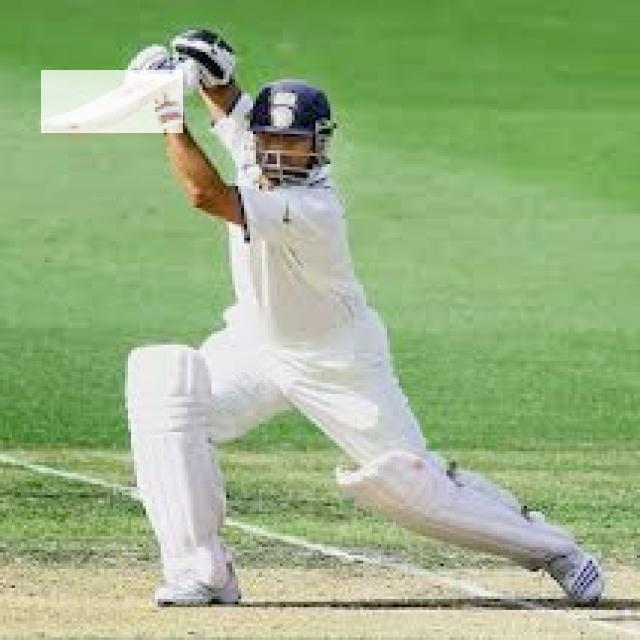bat: (40, 71, 185, 134)
toe: (40, 120, 82, 132)
